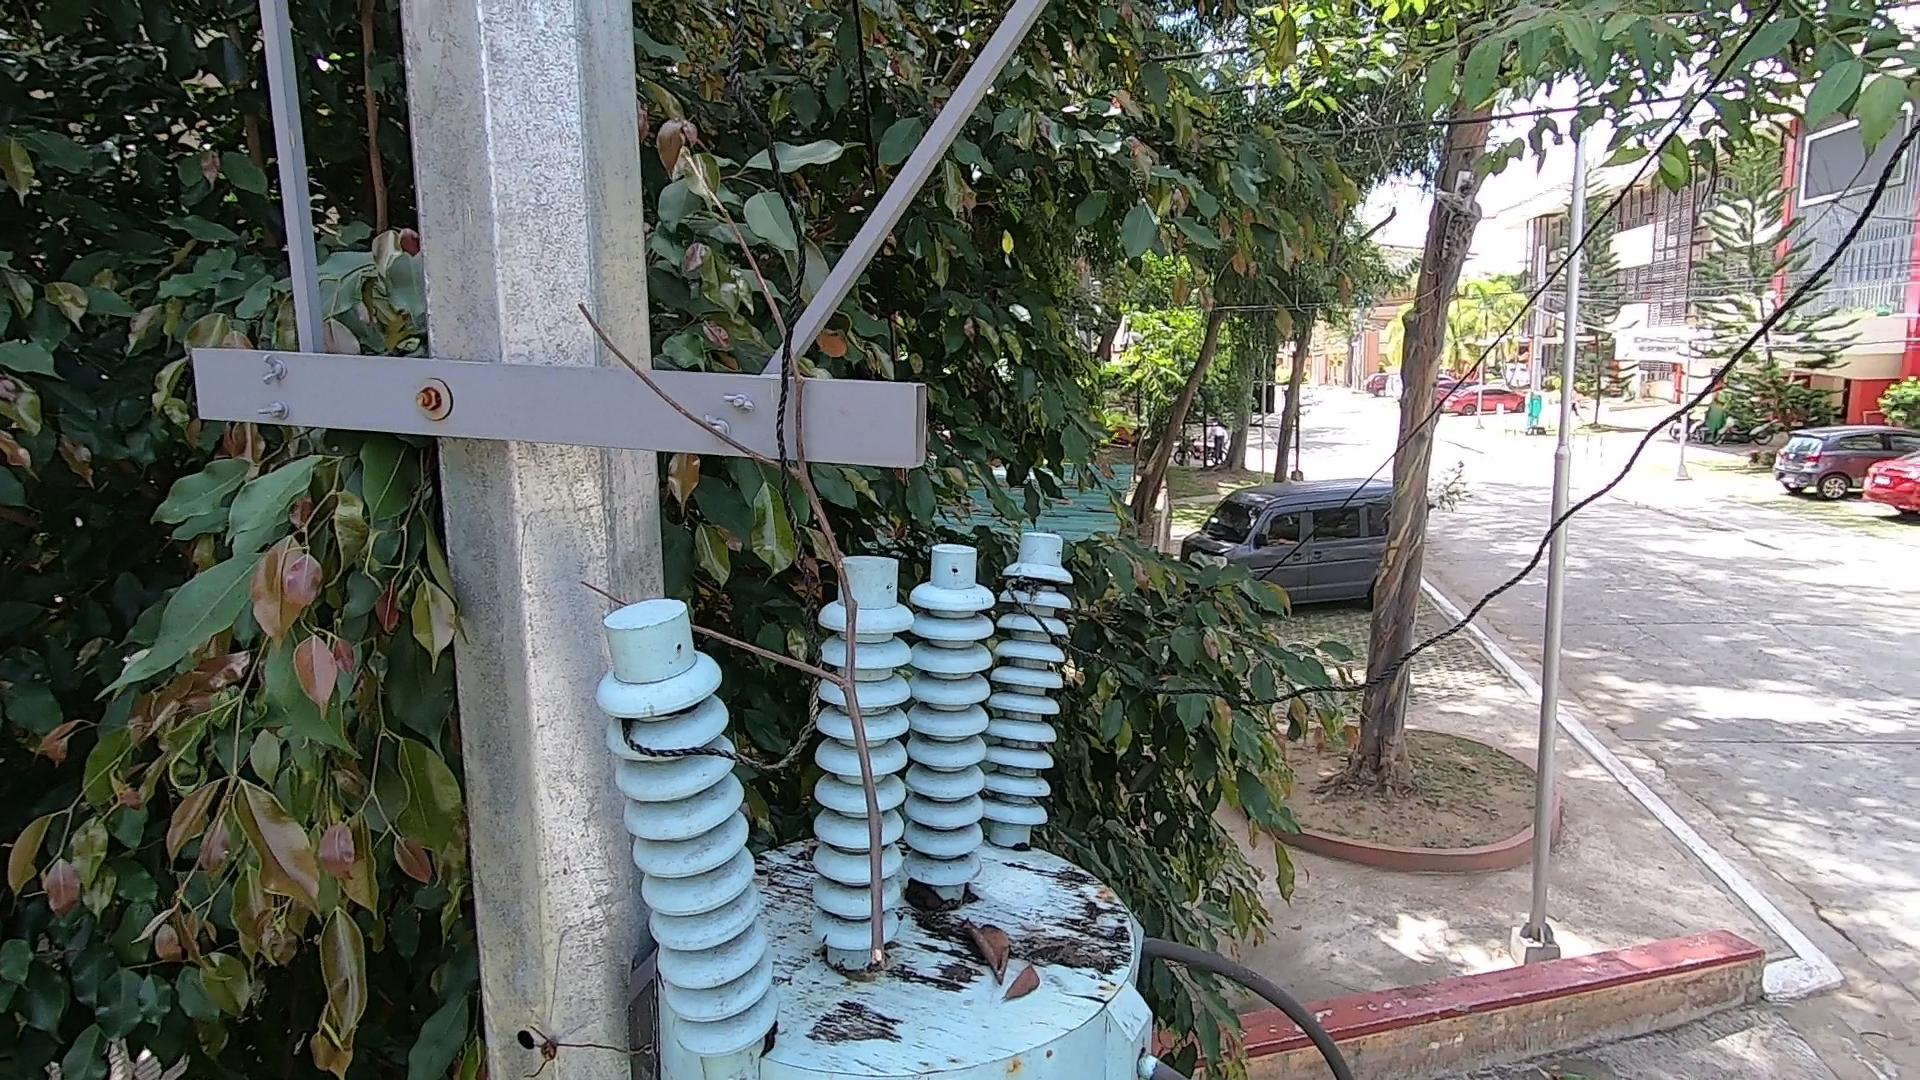leaf: (582, 177, 926, 968), (957, 918, 1019, 986), (910, 869, 961, 932), (1011, 957, 1040, 1018)
